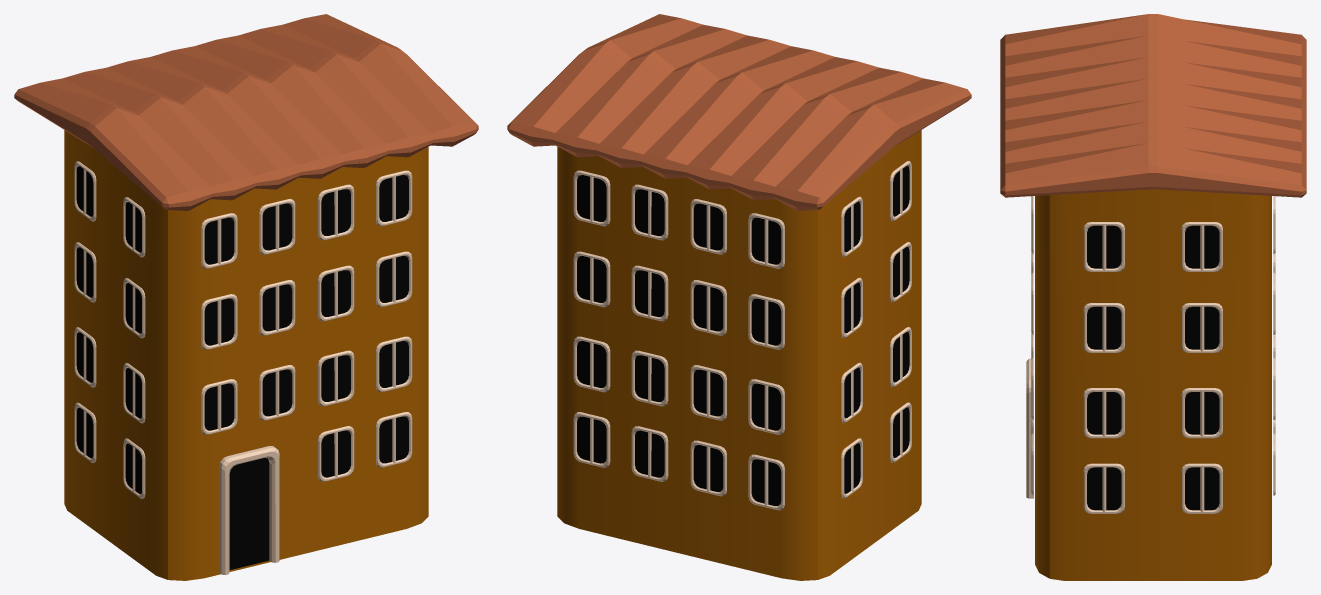
The model's file is Katlı_Brezilya_Evi.fbx.
The picture shows the model from 3 angles, left to right: view 1: azimuth 30°, elevation 25°; view 2: azimuth 150°, elevation 25°; view 3: azimuth 270°, elevation 25°; orthographic projection.
Parts seen in each view (by area): view 1: Cube.006; view 2: Cube.006; view 3: Cube.006.
Part boxes in pixels (left/top/right/bottom): Cube.006: left=14, top=14, right=478, bottom=580; Cube.006: left=507, top=14, right=971, bottom=580; Cube.006: left=1000, top=14, right=1306, bottom=580.
Bounding box in the file's own units: 105 × 139 × 88.28.
